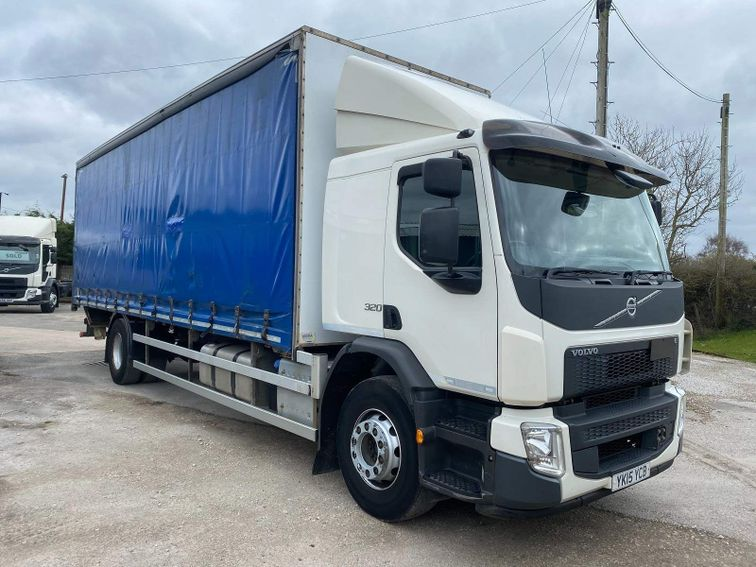Semi: (72, 26, 691, 521), (0, 214, 72, 311)
